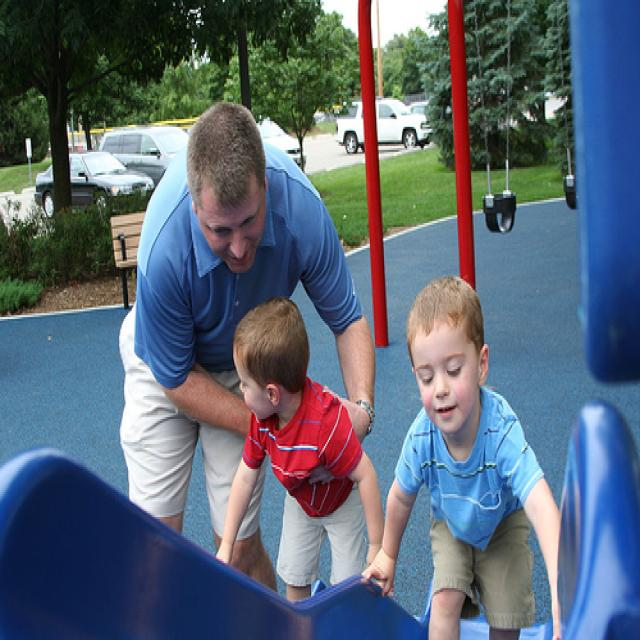light_vehicle: (33, 148, 154, 217), (98, 123, 190, 188), (335, 94, 433, 154), (253, 112, 306, 171)
